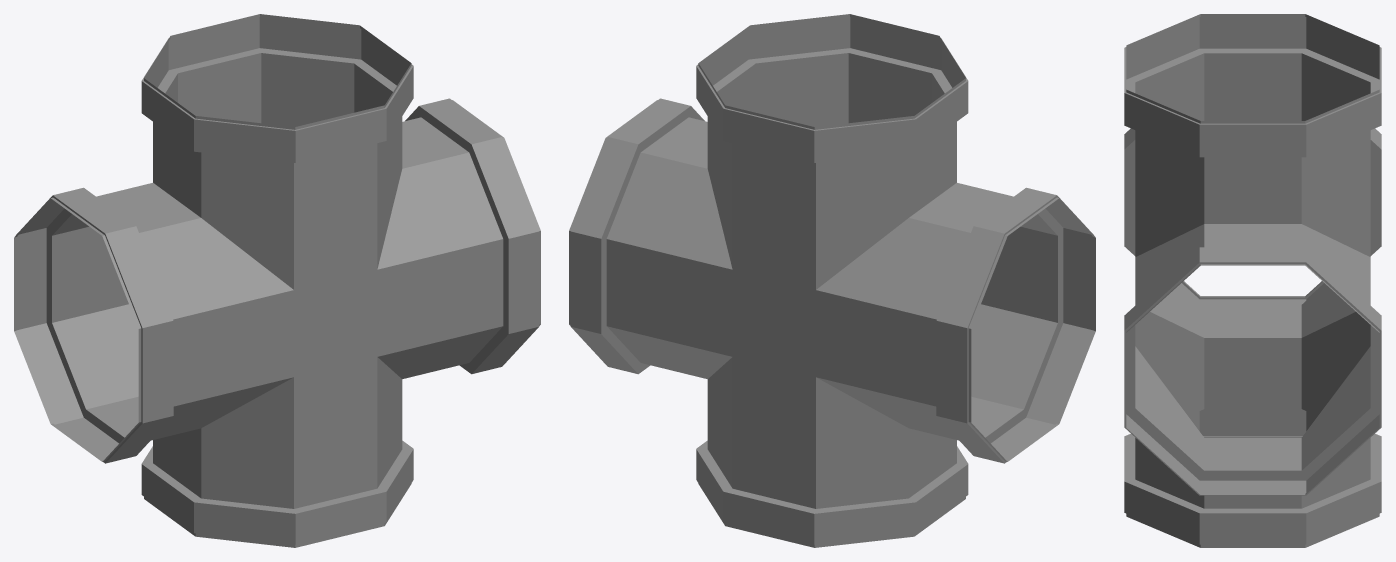
File: Pipe_Cross.FBX
3 renders of one model, left to right at view 1: azimuth 30°, elevation 25°; view 2: azimuth 150°, elevation 25°; view 3: azimuth 270°, elevation 25°, orthographic.
Parts seen in each view (by area): view 1: Pipe_Cross_LOD0; view 2: Pipe_Cross_LOD0; view 3: Pipe_Cross_LOD0.
Part boxes in pixels (x1,y1,x2,y2): Pipe_Cross_LOD0: (14,14,540,547); Pipe_Cross_LOD0: (569,14,1095,547); Pipe_Cross_LOD0: (1124,14,1381,547).
Size of what is drawn, in the model's own units: 60 by 60 by 32.78.
